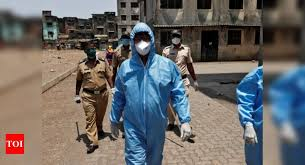mask: (131, 26, 153, 56), (82, 38, 97, 60), (170, 27, 183, 45), (119, 34, 129, 47), (107, 41, 113, 47)
